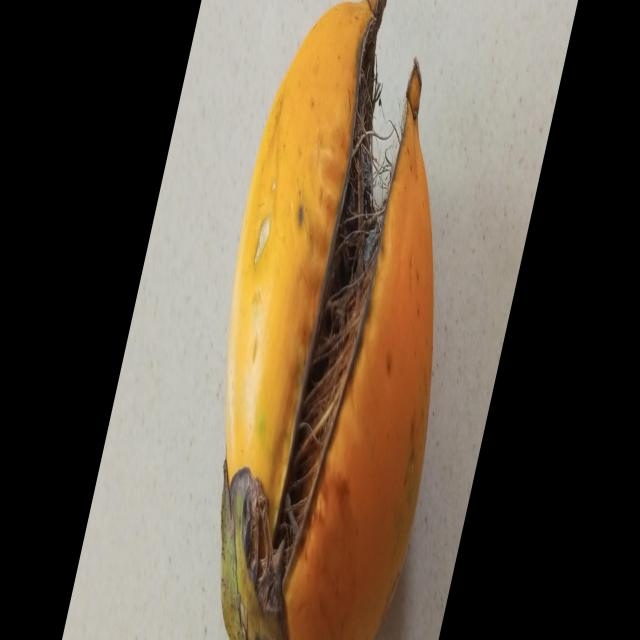damaged: (221, 0, 433, 640)
